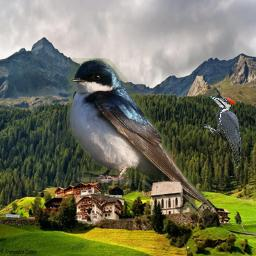Swallow: (67, 58, 213, 222)
Woodpecker: (204, 95, 244, 169)
